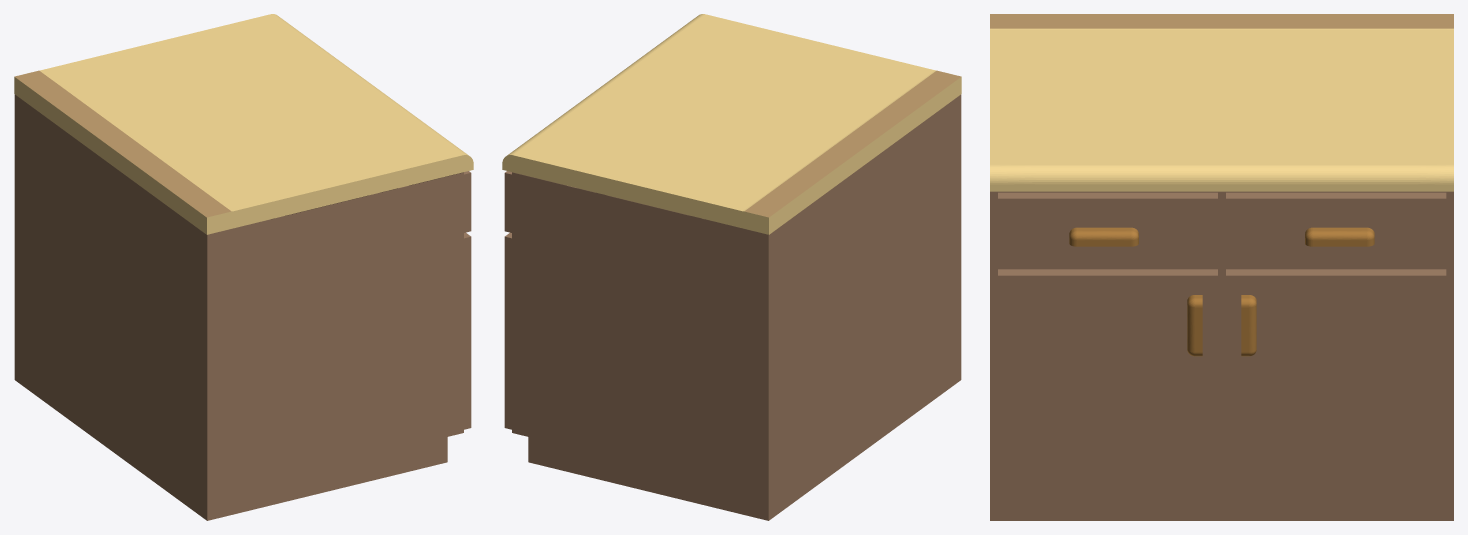
File: counter1-v2.fbx
3 views of the same model, side by side, from view 1: azimuth 30°, elevation 25°; view 2: azimuth 150°, elevation 25°; view 3: azimuth 270°, elevation 25° (orthographic). The views are drawn at different scales.
Parts seen in each view (by area): view 1: counter; view 2: counter; view 3: counter.
Part boxes in pixels (left/top/right/bottom): counter: left=14, top=14, right=473, bottom=520; counter: left=502, top=14, right=961, bottom=520; counter: left=990, top=14, right=1453, bottom=520.
Size of the model in its own units: 501 by 522 by 600.
